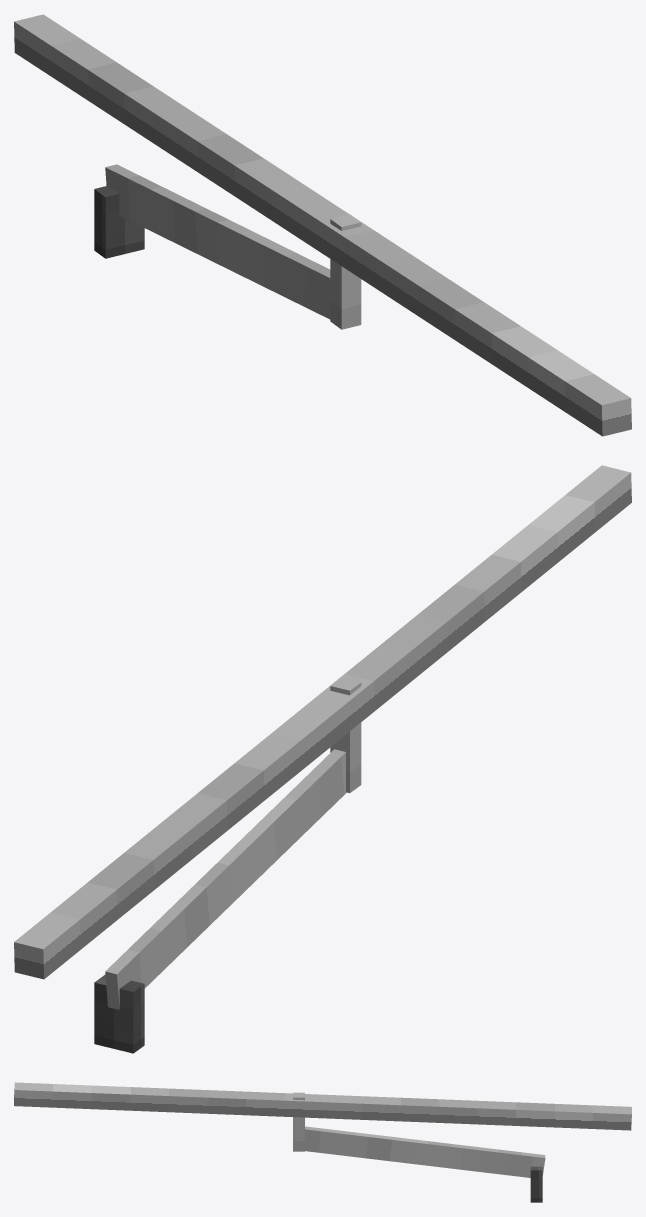
File: contact_wire_holder_inner.obj
3 views of the same model, one above another, from view 1: azimuth 30°, elevation 25°; view 2: azimuth 150°, elevation 25°; view 3: azimuth 270°, elevation 25° (orthographic). The views are drawn at different scales.
Parts seen in each view (by area): view 1: p33, p30, p32, p31; view 2: p33, p30, p32, p31; view 3: p33, p30, p31, p32.
Boxes of the visible parts, <box> form: p33: <box>14,14,631,436</box>; p30: <box>105,164,330,319</box>; p32: <box>94,185,144,258</box>; p31: <box>330,214,361,329</box>; p33: <box>14,465,631,979</box>; p30: <box>105,749,346,1009</box>; p32: <box>94,975,144,1053</box>; p31: <box>330,677,361,793</box>; p33: <box>14,1082,631,1130</box>; p30: <box>305,1126,545,1177</box>; p31: <box>293,1092,304,1151</box>; p32: <box>530,1166,542,1202</box>.
Size of the model in its own units: 0.0625 by 0.323 by 1.63.
